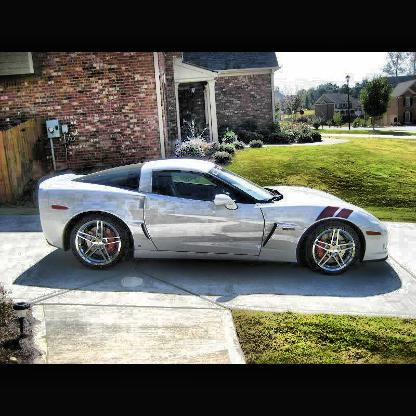Chevrolet Corvette Ron Fellows Edition Z06 2007: (37, 158, 392, 279)
